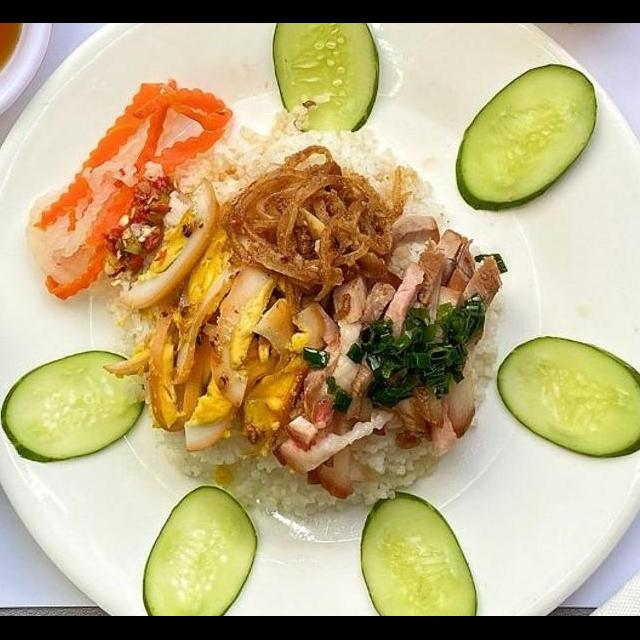bi: (216, 144, 414, 308)
com: (169, 105, 437, 218), (146, 418, 345, 518), (340, 428, 439, 516)
com suon bi trung: (0, 60, 640, 616)
dua chua: (21, 74, 236, 306)
suon: (268, 215, 506, 500)
trung: (99, 220, 330, 462), (117, 176, 219, 314)
